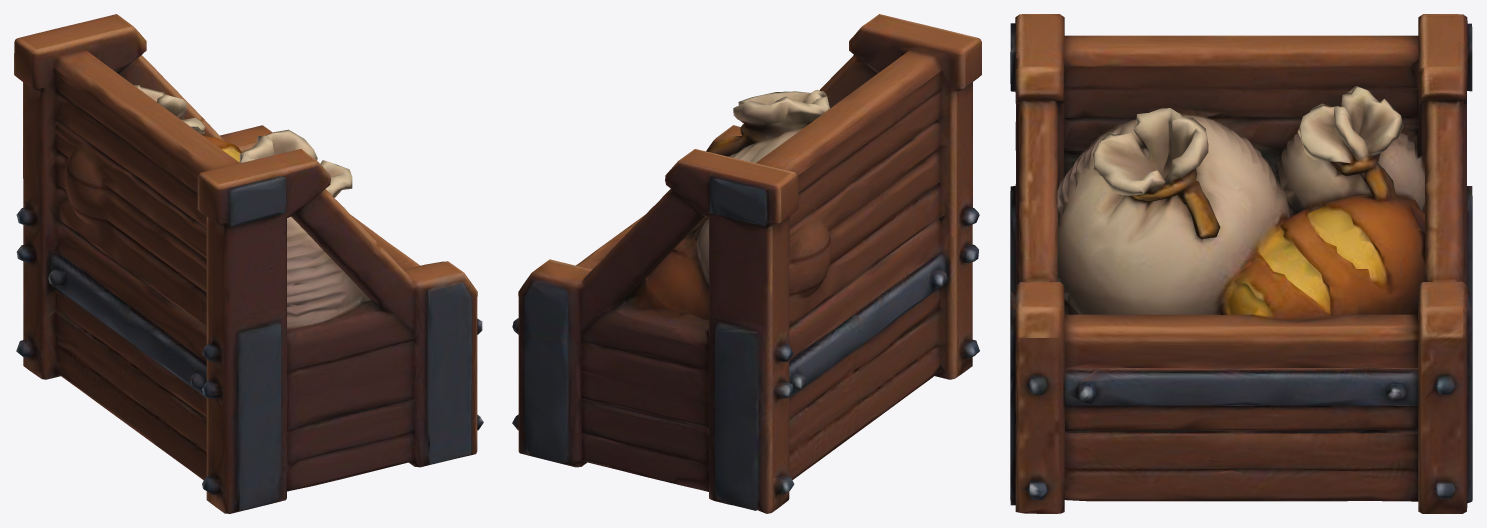
Rendered from crate-supply.glb.
3 views of the same model, side by side, from view 1: azimuth 30°, elevation 25°; view 2: azimuth 150°, elevation 25°; view 3: azimuth 270°, elevation 25° (orthographic). The views are drawn at different scales.
Parts seen in each view (by area): view 1: tripo_node_4b26831c-4985-431e-b5eb-71aefab466df; view 2: tripo_node_4b26831c-4985-431e-b5eb-71aefab466df; view 3: tripo_node_4b26831c-4985-431e-b5eb-71aefab466df.
Part boxes in pixels (x1=…): tripo_node_4b26831c-4985-431e-b5eb-71aefab466df: x1=14, y1=14, x2=483, y2=513; tripo_node_4b26831c-4985-431e-b5eb-71aefab466df: x1=512, y1=14, x2=981, y2=513; tripo_node_4b26831c-4985-431e-b5eb-71aefab466df: x1=1010, y1=14, x2=1472, y2=513.
Size of the model in its own units: 0.7576 by 0.8629 by 1.
Materials: 1 (1 with a texture image).
